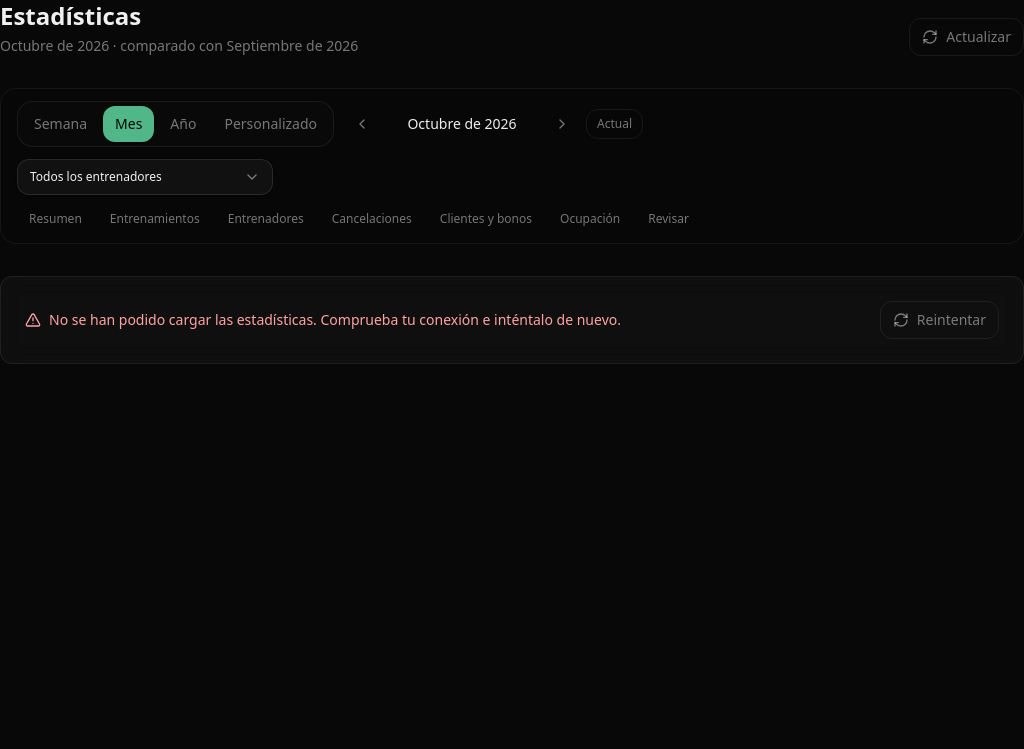
Test case: StatisticsDashboard › reports a load error with a retry
Check: the message shows "No se han podido cargar las estadísticas", box [49,310,621,329]
Click the button "Reintentar". click: (939,320)
box: [880,301,999,339]
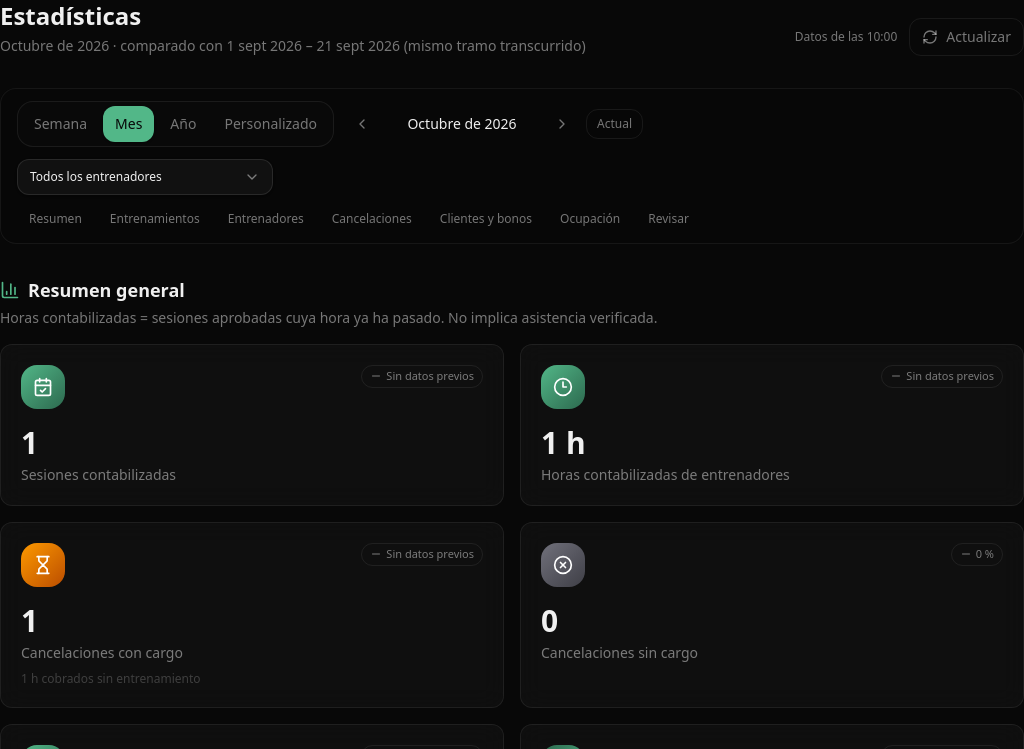
Check: the heading "Resumen general" is shown, box [0,278,185,302]
